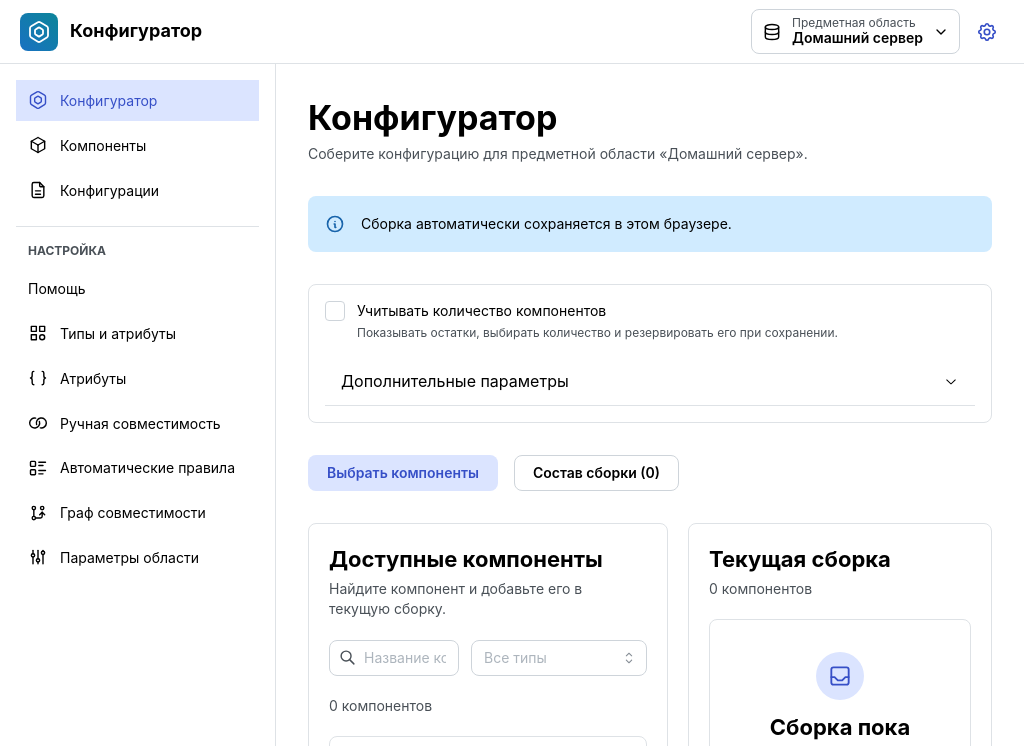
domain first run and management › restores the last domain and switches it from the header menu
The image size is (1024, 746).
What coordinates should you click on to do the following:
click the button with aria-label "Предметная область: Домашний сервер"
I would click on:
 (856, 32)
Its box is [751,9,960,54].
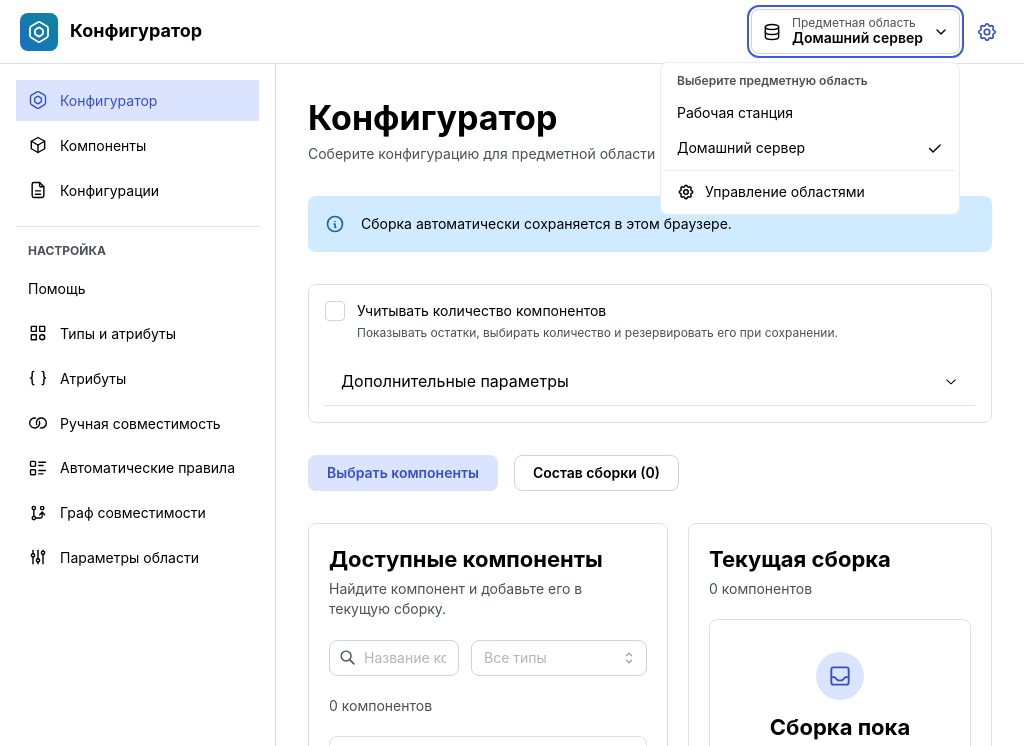
What coordinates should you click on to do the following:
click the menu item "Рабочая станция"
I would click on:
 (735, 113)
Its box is [665,96,955,131].
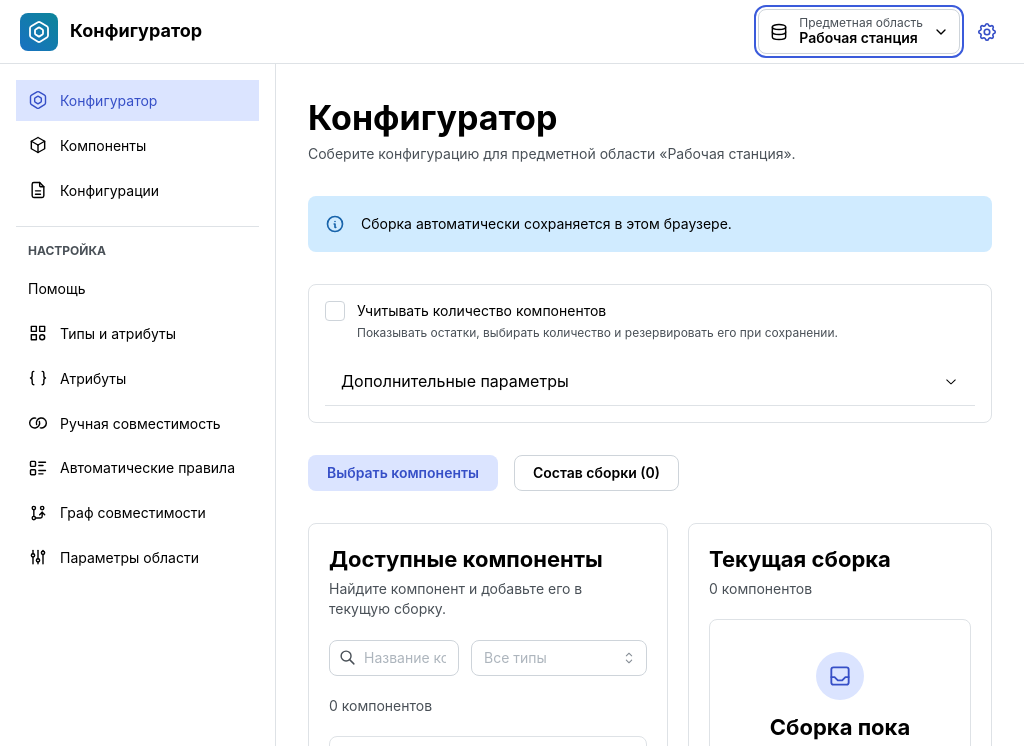
expect the button with aria-label "Предметная область: Рабочая станция" is shown: met, box [758,9,960,54]
